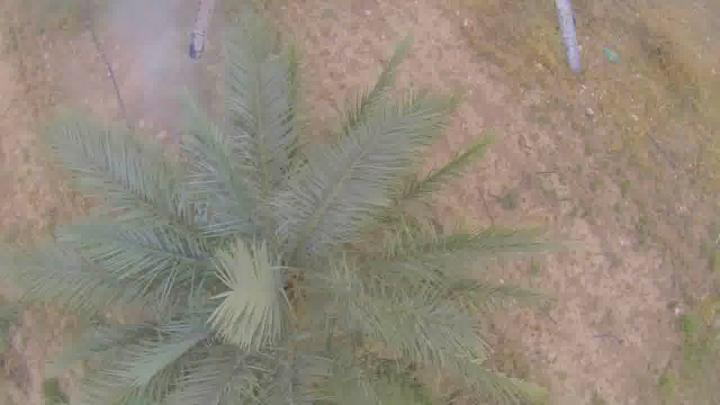Date-Palm-Crown: (116, 109, 422, 402)
